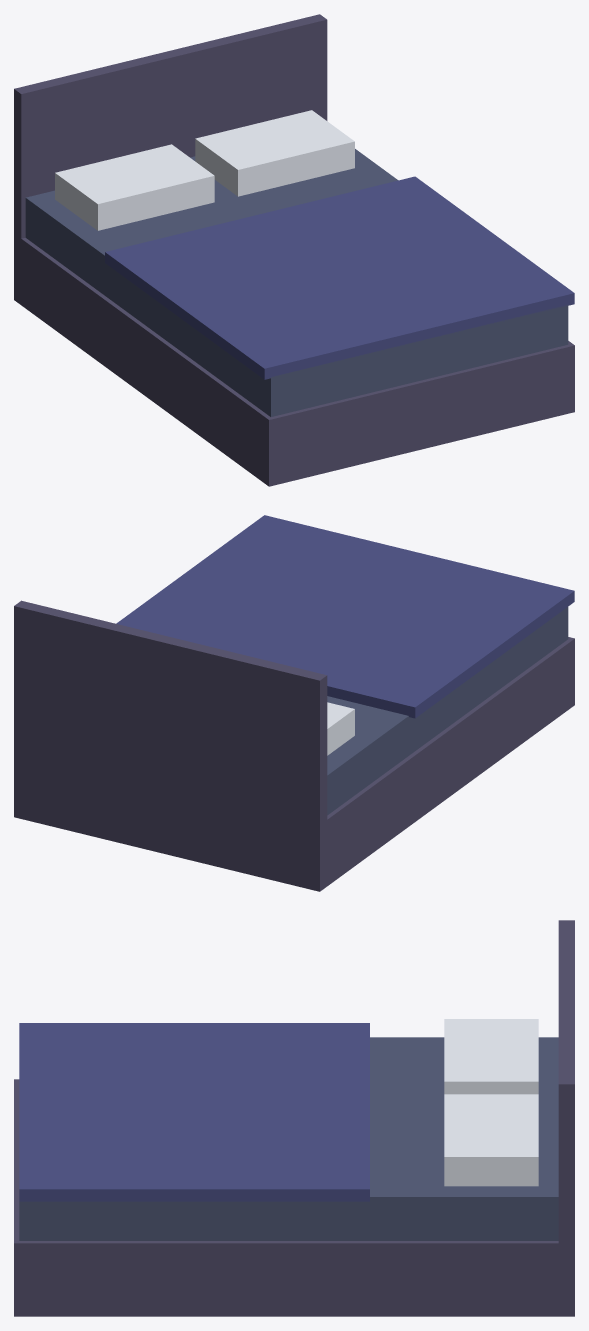
Rendered from Bed.fbx.
3 renders of one model, top to bottom at view 1: azimuth 30°, elevation 25°; view 2: azimuth 150°, elevation 25°; view 3: azimuth 270°, elevation 25°, orthographic. The views are drawn at different scales.
Visible parts, largest first — view 1: Bed; view 2: Bed; view 3: Bed.
Part boxes in pixels (<box>): Bed: <box>14,14,574,486</box>; Bed: <box>14,515,574,891</box>; Bed: <box>14,920,574,1316</box>.
Bounding box in the file's own units: 1.46 × 0.95 × 2.08.
